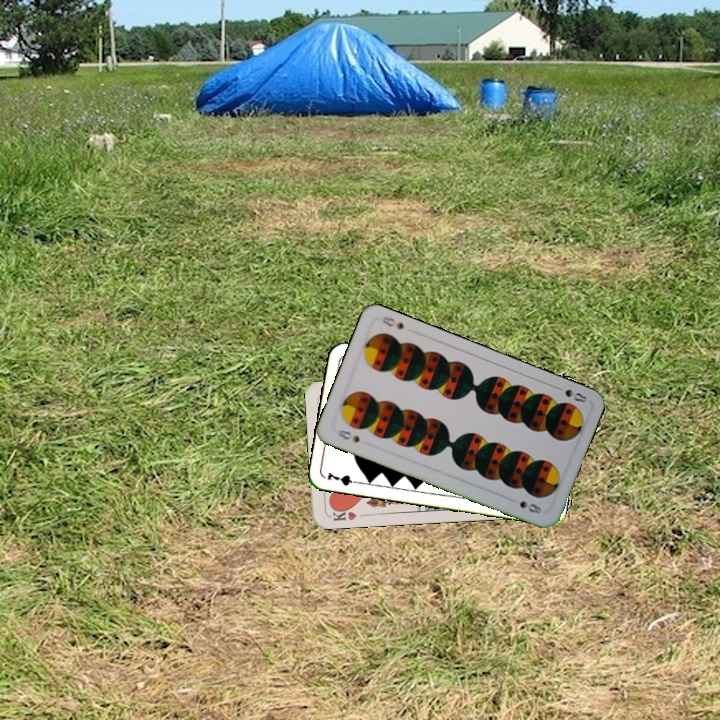G7: (323, 468, 363, 488)
HK: (326, 503, 359, 523)
S8: (551, 382, 590, 405), (332, 426, 362, 445)
